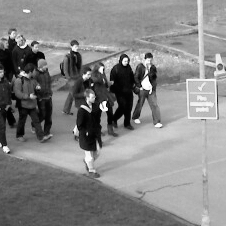person: (14, 63, 49, 144), (76, 89, 104, 177), (61, 38, 88, 117), (136, 52, 164, 127), (110, 53, 136, 130), (93, 63, 118, 137), (34, 59, 54, 140), (73, 66, 95, 139), (1, 65, 10, 155), (13, 33, 34, 70), (25, 40, 48, 70), (1, 35, 15, 77), (6, 27, 20, 48)
